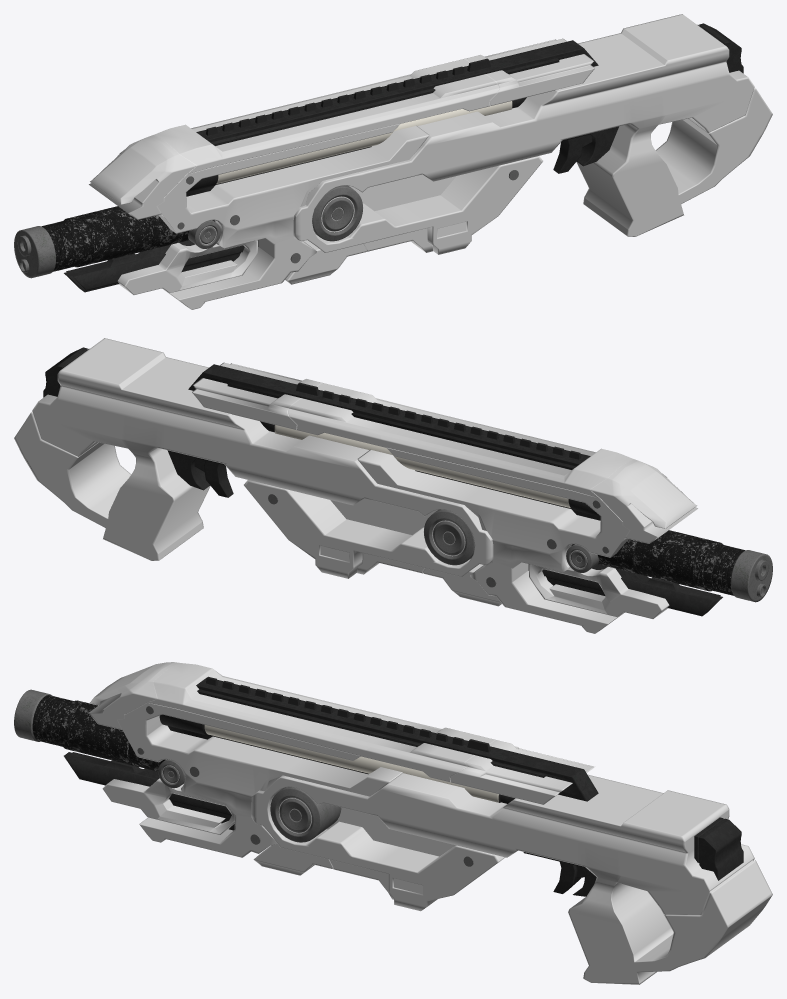
The model's file is gun_fix_0724.fbx.
The picture shows the model from 3 angles, top to bottom: view 1: azimuth 30°, elevation 25°; view 2: azimuth 150°, elevation 25°; view 3: azimuth 330°, elevation 25°; orthographic projection.
Parts seen in each view (by area): view 1: Plane; view 2: Plane; view 3: Plane.
Part boxes in pixels (box(x1,y1,x2,y2)): Plane: box(14, 14, 772, 309); Plane: box(14, 338, 772, 633); Plane: box(14, 662, 772, 984).
Size of the model in its own units: 4.73 by 1.19 by 0.5153.
6 materials, 3 textured.
